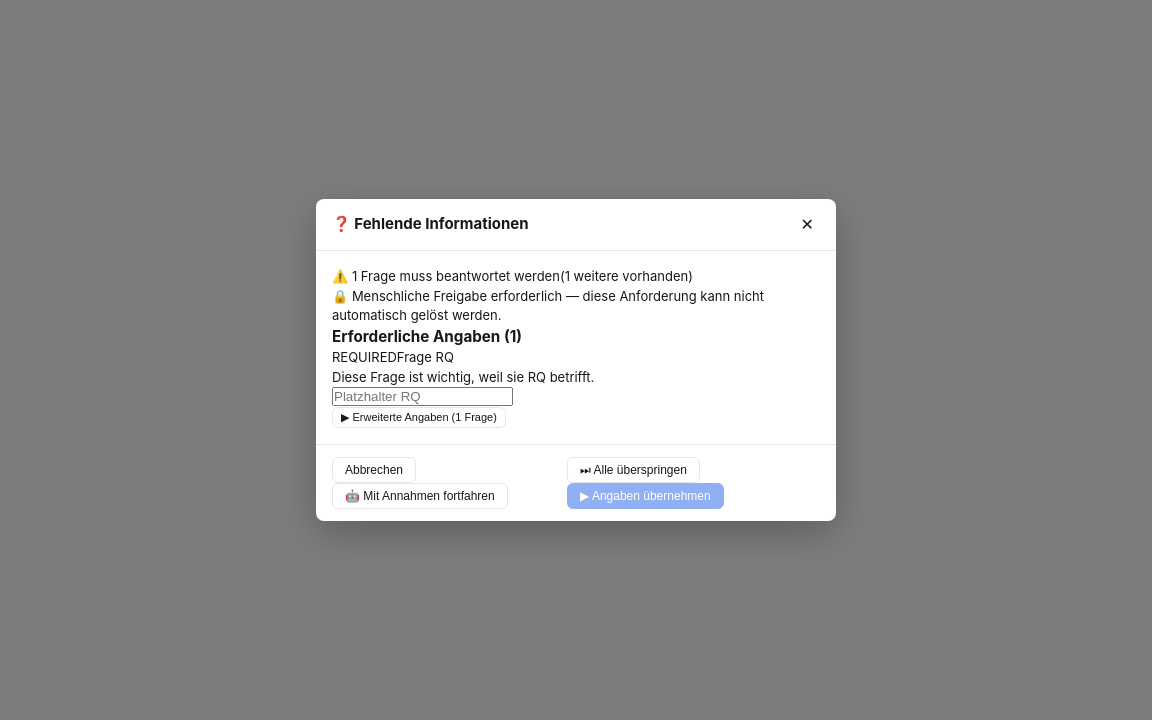
Test case: MissingInfoGate › skip behavior › allows skipping OPTIONAL items
What coordinates should you click on to do the following:
click the button with test id "gate-toggle-advanced"
I would click on:
 (419, 417)
Its box is [332,407,506,428].
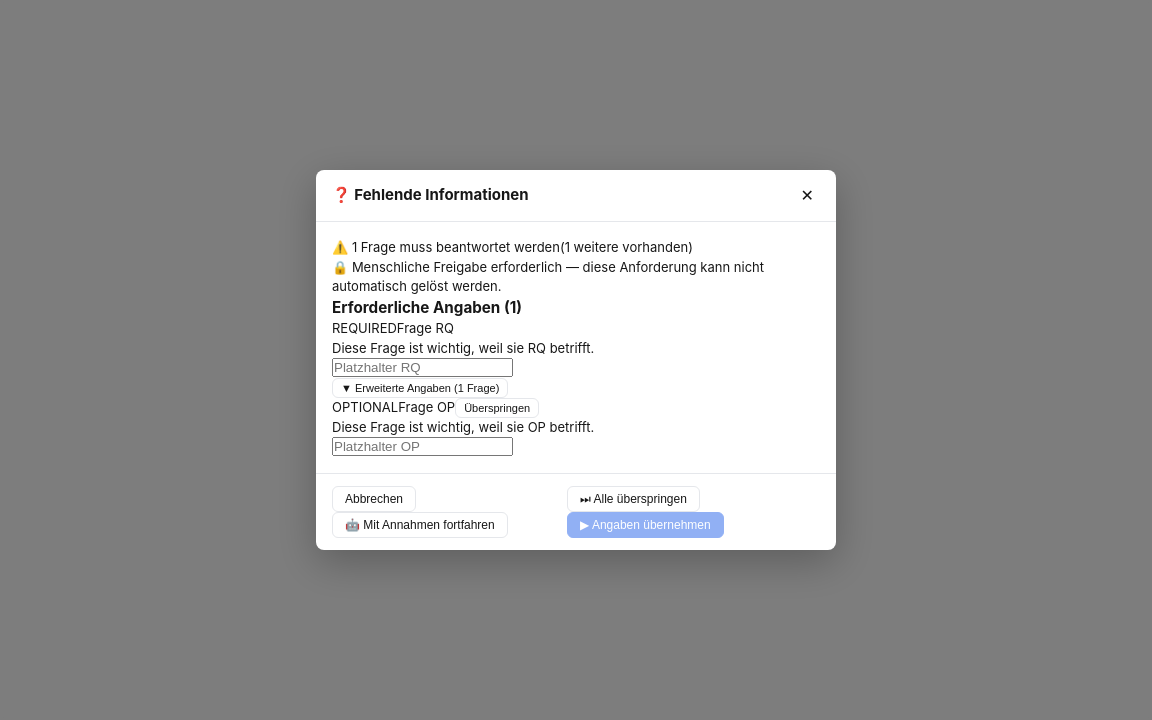
What coordinates should you click on to do the following:
click the button with test id "gate-skip-OP"
I would click on:
 (497, 408)
Its box is [455,398,539,418].
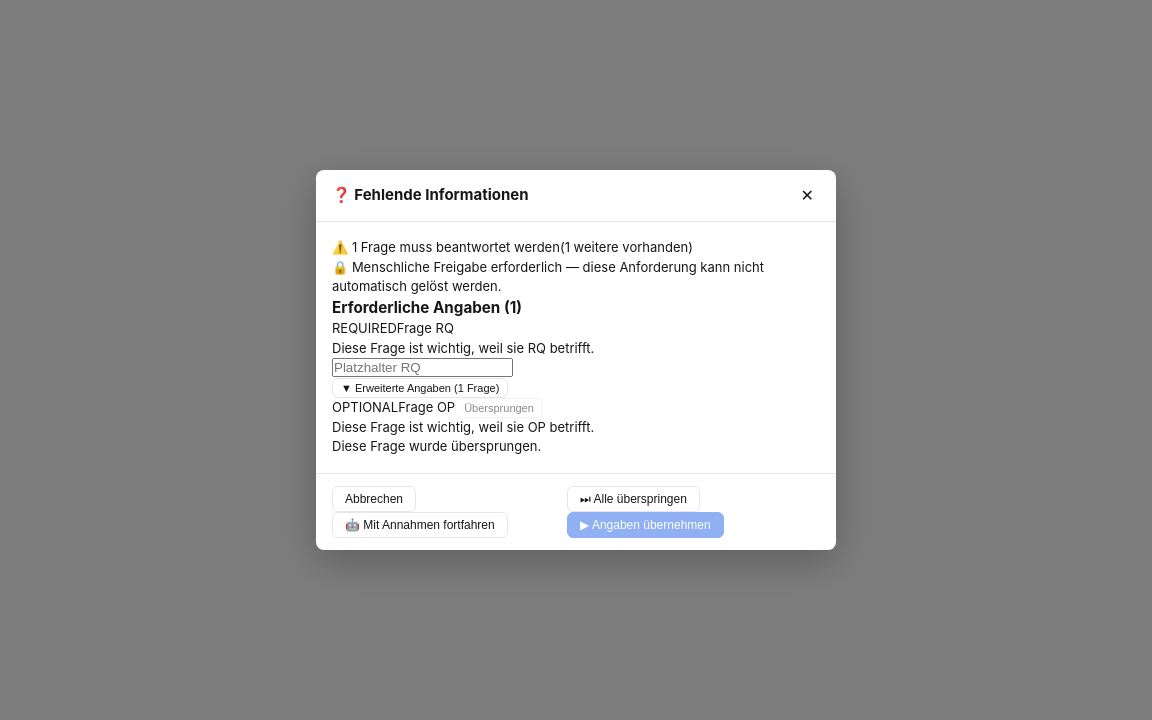
Check: the text "Diese Frage wurde übersprungen." is shown, box [332,438,541,454]
